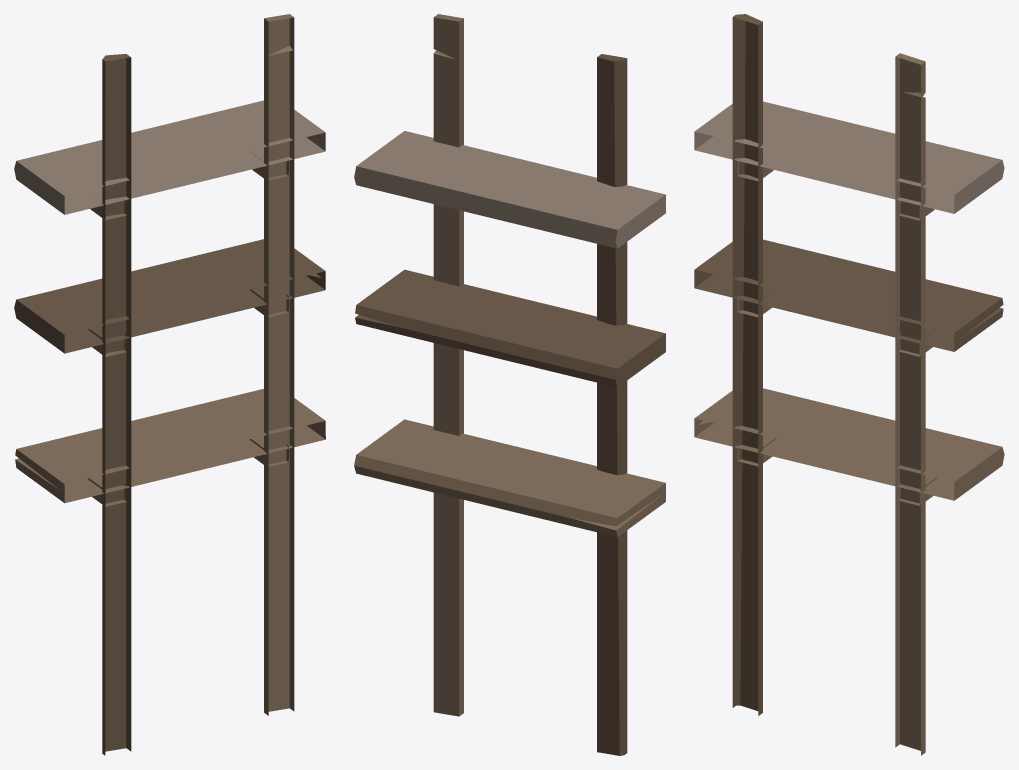
The model's file is EA03_Prop_House_Shelf_02c.glb.
The picture shows the model from 3 angles, left to right: view 1: azimuth 30°, elevation 25°; view 2: azimuth 150°, elevation 25°; view 3: azimuth 330°, elevation 25°; orthographic projection.
Parts seen in each view (by area): view 1: EA03_Prop_House_Shelf_02c; view 2: EA03_Prop_House_Shelf_02c; view 3: EA03_Prop_House_Shelf_02c.
Boxes of the visible parts, left/top/right/bottom form: EA03_Prop_House_Shelf_02c: left=14, top=14, right=325, bottom=755; EA03_Prop_House_Shelf_02c: left=354, top=14, right=665, bottom=755; EA03_Prop_House_Shelf_02c: left=694, top=14, right=1004, bottom=755.
Bounding box in the file's own units: 1.47 × 3.73 × 0.5019.
1 material, 1 textured.
